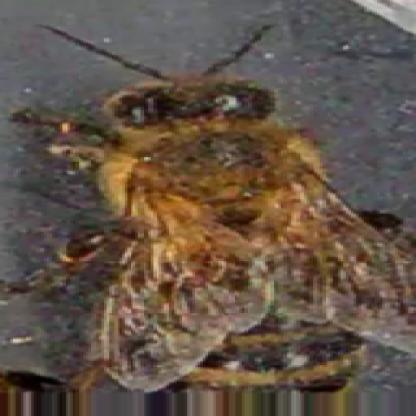bee: (73, 61, 377, 390)
